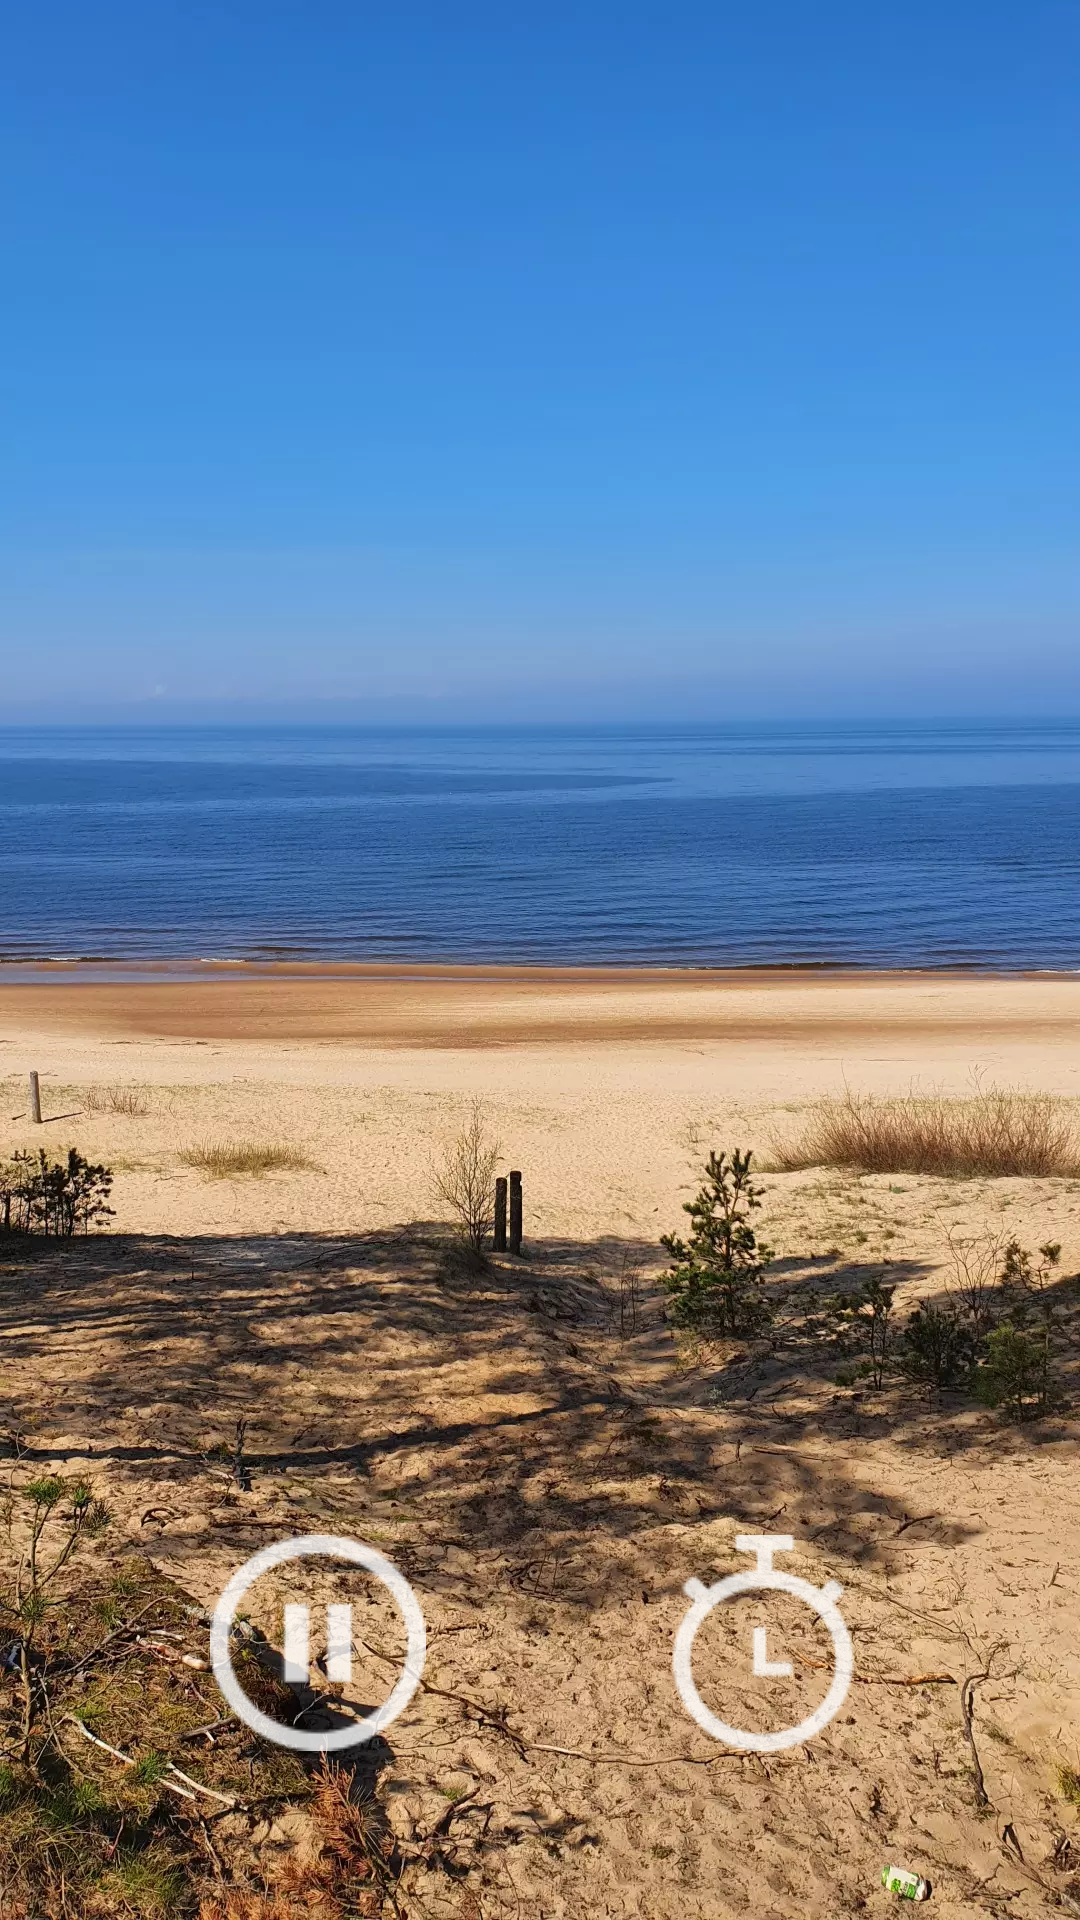

Screen size 1080x1920. Icon name, then its center in pixels as [x,y]:
pause: [317,1642]
timer: [762,1642]
